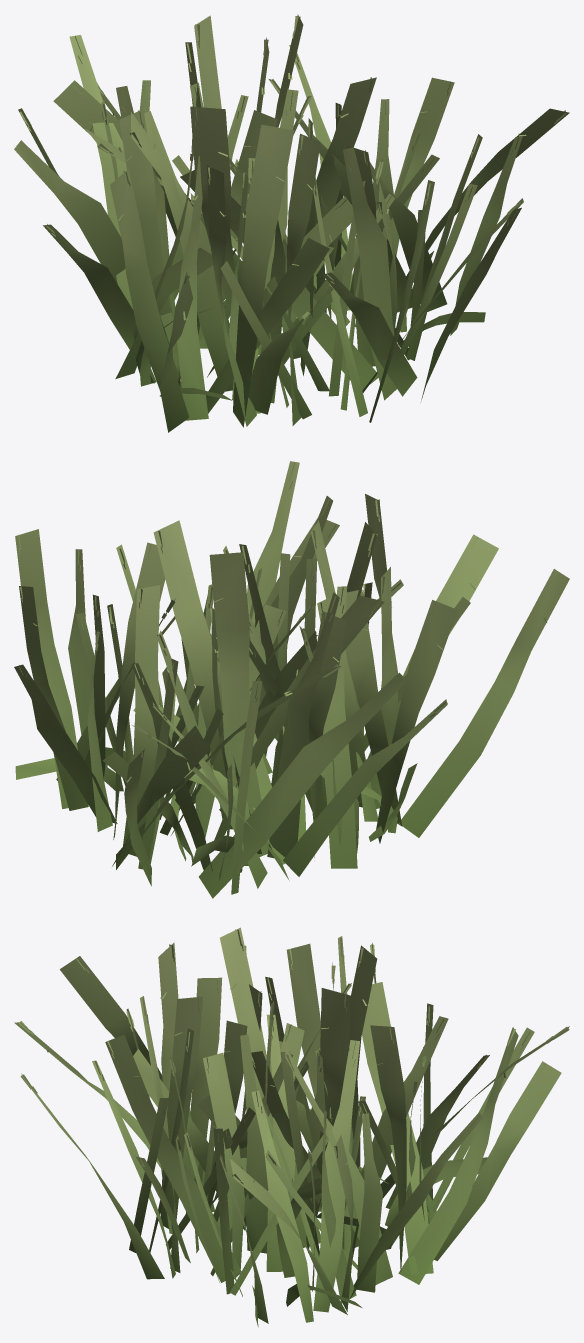
Rendered from Grass Tuft C.glb.
3 renders of one model, top to bottom at view 1: azimuth 30°, elevation 25°; view 2: azimuth 150°, elevation 25°; view 3: azimuth 270°, elevation 25°, orthographic. The views are drawn at different scales.
Parts seen in each view (by area): view 1: Grass Tuft C; view 2: Grass Tuft C; view 3: Grass Tuft C.
Part boxes in pixels (<box>): Grass Tuft C: <box>14,14,569,432</box>; Grass Tuft C: <box>14,461,569,898</box>; Grass Tuft C: <box>14,927,569,1327</box>.
Size of the model in its own units: 1.52 by 0.9789 by 1.68.
